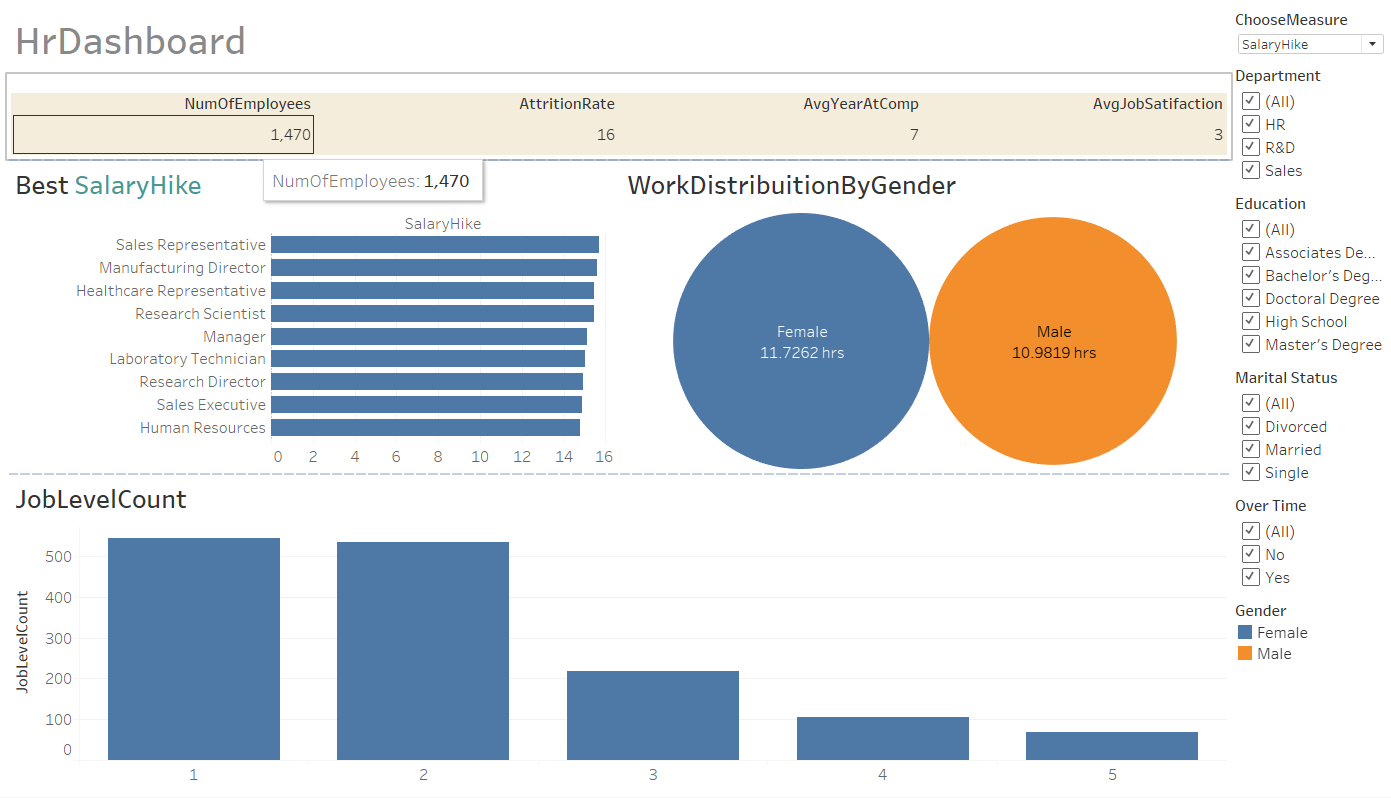

The dashboard page shown, as its layout file describes it:
{"tool":"tableau","page":{"name":"Dashboard 1","canvas":[1400,800],"ordinal":0},"visuals":[{"type":"text","box":[8,8,1224,69]},{"type":"parameter","param":"[Parameters].[Parameter 1]","box":[1232,8,160,56]},{"type":"filter","title":"WorkDistribuitionByGender","param":"[federated.1800zit1h0skp611atnhs0kz5jkv].[none:Department:nk]","box":[1232,64,160,128]},{"type":"worksheet","title":"Band","mark":"Automatic","box":[8,77,1224,85]},{"type":"worksheet","title":"BestPayingJobs","mark":"Automatic","rows":["Job Role"],"cols":["Calculation_414331226573078532"],"box":[8,162,612,314]},{"type":"worksheet","title":"WorkDistribuitionByGender","mark":"Circle","box":[620,162,612,314]},{"type":"filter","title":"WorkDistribuitionByGender","param":"[federated.1800zit1h0skp611atnhs0kz5jkv].[none:Education:nk]","box":[1232,192,160,174]},{"type":"filter","title":"WorkDistribuitionByGender","param":"[federated.1800zit1h0skp611atnhs0kz5jkv].[none:Marital Status:nk]","box":[1232,366,160,128]},{"type":"worksheet","title":"JobLevelCount","mark":"Automatic","rows":["Job Level (copy)_414331226570805251"],"cols":["Job Level"],"box":[8,476,1224,316]},{"type":"filter","title":"WorkDistribuitionByGender","param":"[federated.1800zit1h0skp611atnhs0kz5jkv].[none:Over Time:nk]","box":[1232,494,160,105]},{"type":"legend","title":"WorkDistribuitionByGender","param":"[federated.1800zit1h0skp611atnhs0kz5jkv].[none:Gender:nk]","box":[1232,599,160,72]}]}

Visuals, with their boxes in screenshot pixels (x1, y1, x2, y2), scaled from the page's 1400x800 canvas onto the 1391x798 screenshot:
text: pyautogui.locateOnScreen(8, 8, 1224, 77)
parameter: pyautogui.locateOnScreen(1224, 8, 1383, 64)
"WorkDistribuitionByGender" filter: pyautogui.locateOnScreen(1224, 64, 1383, 192)
"Band" worksheet: pyautogui.locateOnScreen(8, 77, 1224, 162)
"BestPayingJobs" worksheet: pyautogui.locateOnScreen(8, 162, 616, 475)
"WorkDistribuitionByGender" worksheet (Circle marks): pyautogui.locateOnScreen(616, 162, 1224, 475)
"WorkDistribuitionByGender" filter: pyautogui.locateOnScreen(1224, 192, 1383, 365)
"WorkDistribuitionByGender" filter: pyautogui.locateOnScreen(1224, 365, 1383, 493)
"JobLevelCount" worksheet: pyautogui.locateOnScreen(8, 475, 1224, 790)
"WorkDistribuitionByGender" filter: pyautogui.locateOnScreen(1224, 493, 1383, 598)
"WorkDistribuitionByGender" legend: pyautogui.locateOnScreen(1224, 598, 1383, 669)
